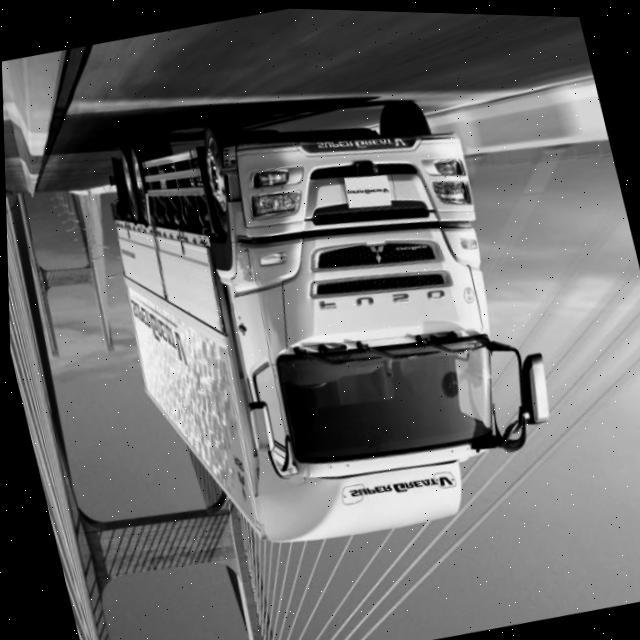truck: (82, 55, 572, 576)
